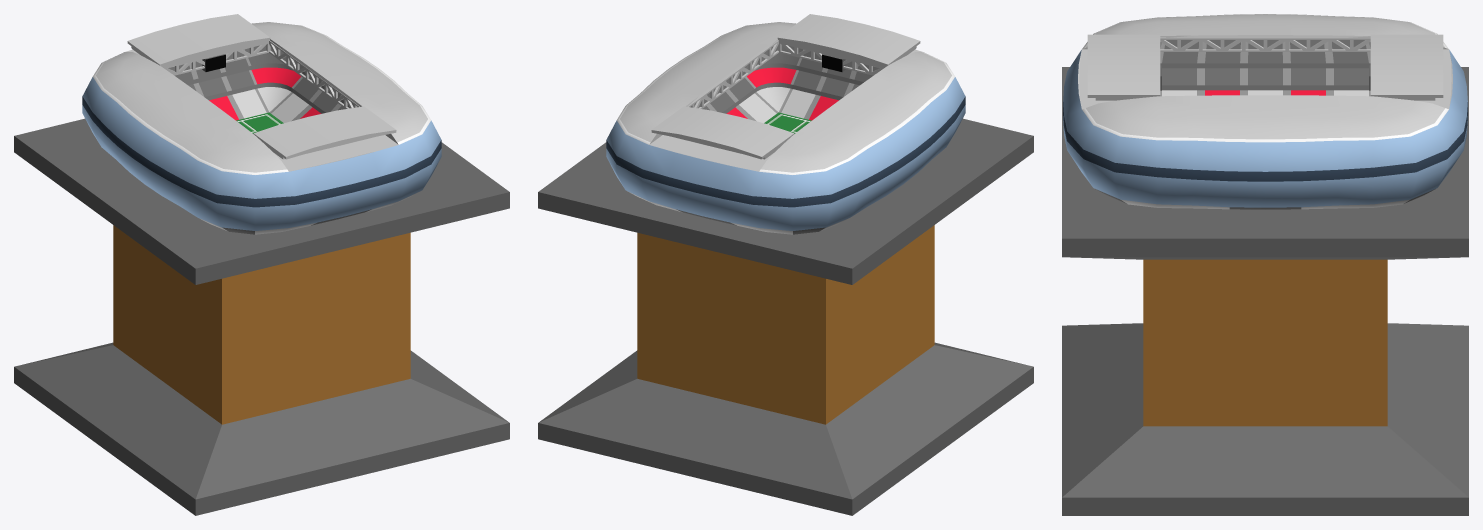
Rendered from FSt_Fra_001.FBX.
3 views of the same model, side by side, from view 1: azimuth 30°, elevation 25°; view 2: azimuth 150°, elevation 25°; view 3: azimuth 270°, elevation 25° (orthographic). The views are drawn at different scales.
Visible parts, largest first — view 1: FSt_Fra_001; view 2: FSt_Fra_001; view 3: FSt_Fra_001.
Boxes of the visible parts, x1,y1,x2,y2 form: FSt_Fra_001: [14, 14, 509, 515]; FSt_Fra_001: [538, 14, 1033, 515]; FSt_Fra_001: [1062, 14, 1468, 515].
Bounding box in the file's own units: 1000 × 1000 × 1000.
